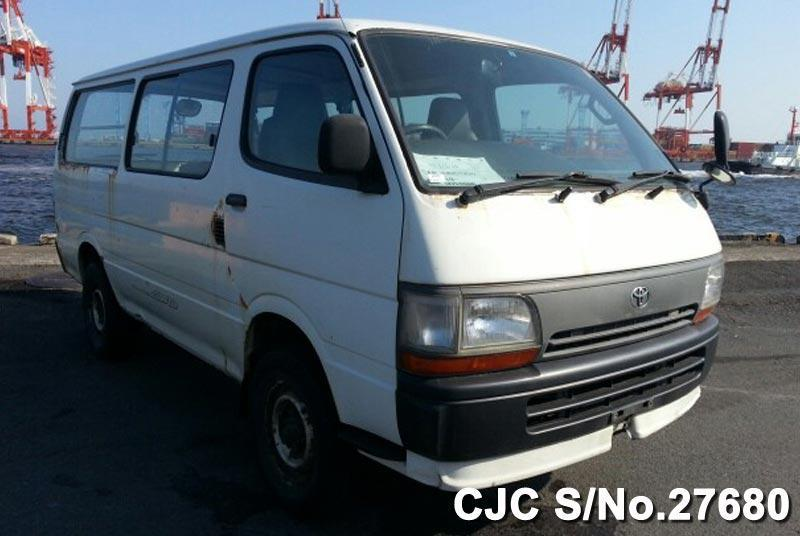Van: (53, 16, 728, 480)
